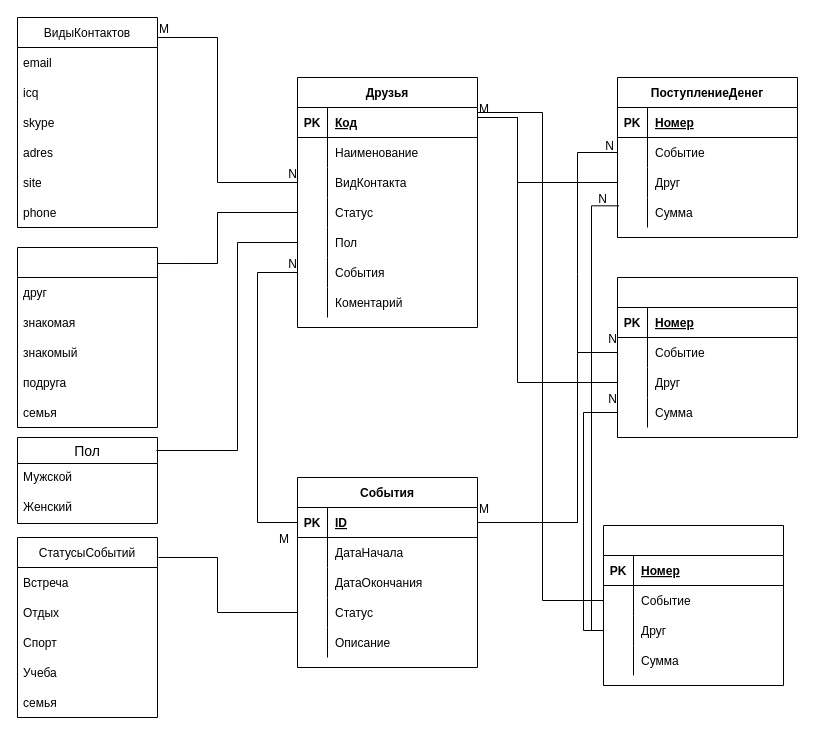
Image size: 815x735. Some labels were removed from this diagram. Here are the shapes that lost their labels. From the top down, the box of each, then its label:
(16, 246, 158, 428): СтатусыДрузей
(616, 276, 798, 438): РасходДенег
(602, 524, 784, 686): Валютный учет
